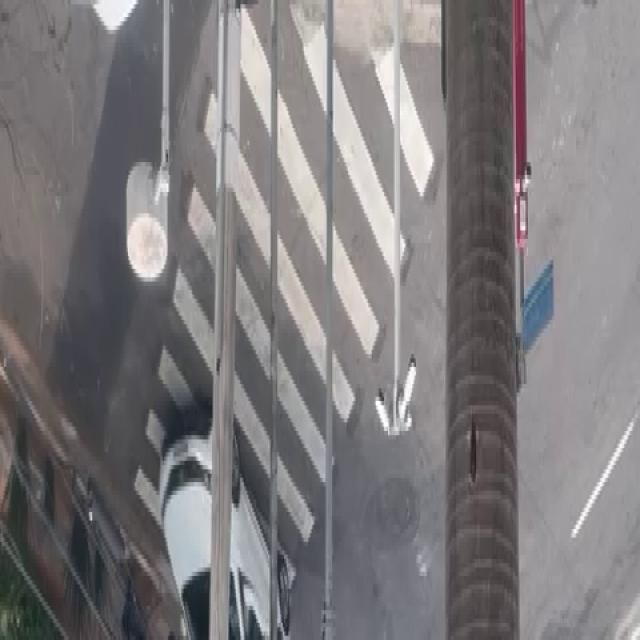car: (156, 406, 300, 640)
